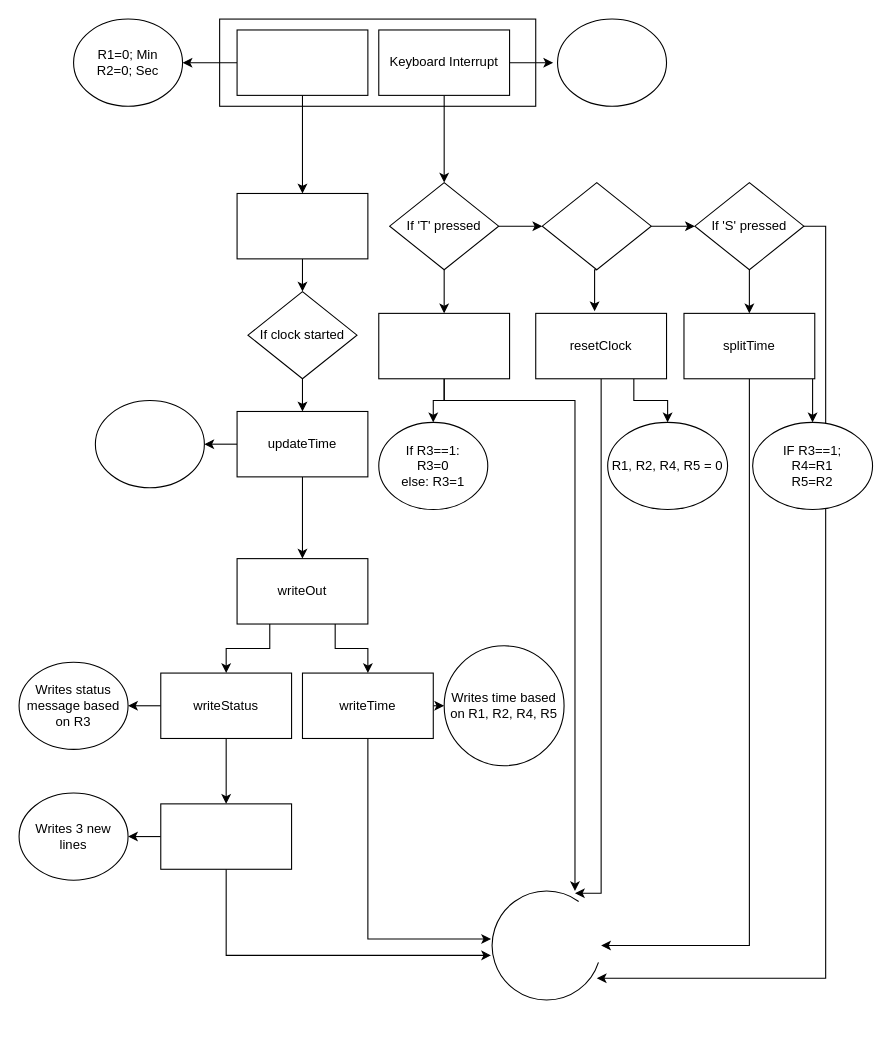
The diagram is 892 pixels wide and 1042 high, and some of its shapes have lost their labels. Each missing label, with the centre of its shape:
"Clock Interrupt" goes at point (302, 62).
"If 'R' pressed" goes at point (596, 225).
"Main loop" goes at point (546, 945).
"newline" goes at point (226, 836).
"R2++ if R2=60 R1++ R2=0" goes at point (149, 443).
"R3 tracks clock state R3=1" goes at point (611, 62).
"secondsCounter" goes at point (302, 225).
"toggleClock" goes at point (444, 345).
